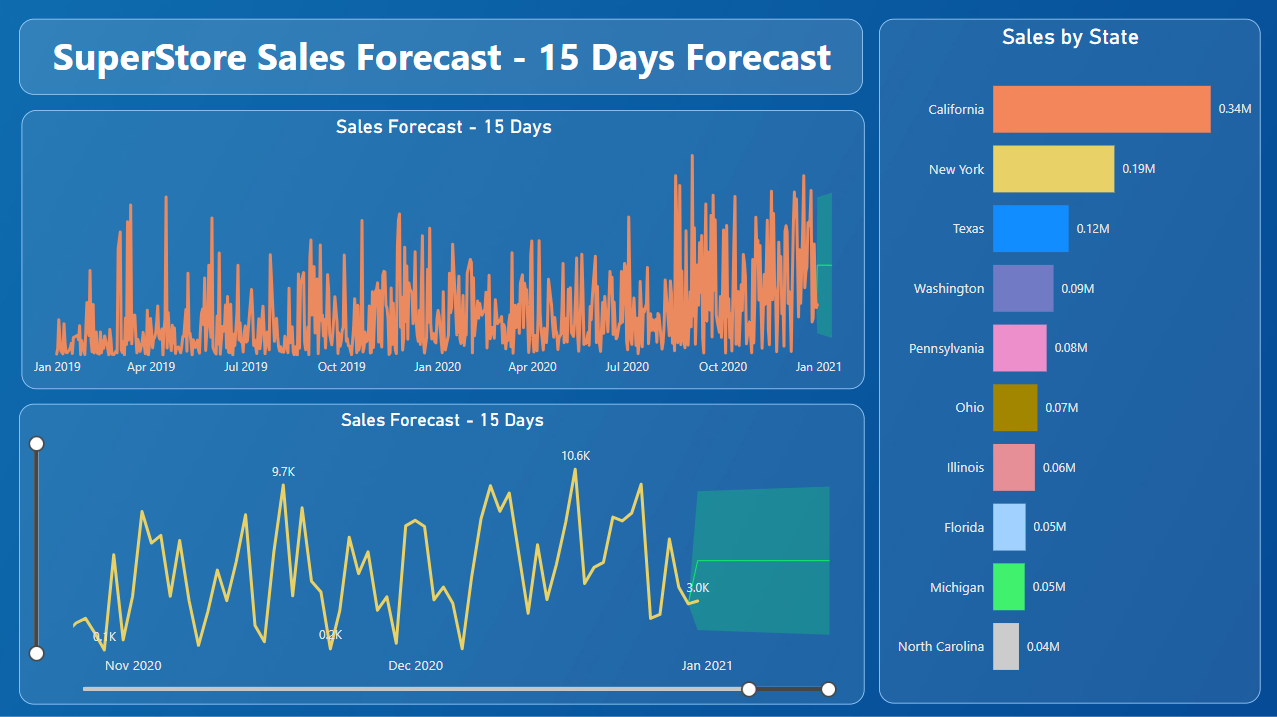

Layout of this report page (visuals, bound fields, positions):
{"tool":"powerbi","page":{"name":"Page 2","canvas":[1280,720],"ordinal":1},"visuals":[{"type":"lineChart","title":"Sales Forecast - 15 Days","fields":{"Y":["Sum(SuperStore_Sales_Dataset.Sales)"],"Category":["SuperStore_Sales_Dataset.Order Date"]},"box":[22.2,109.9,843.2,279],"z":0},{"type":"lineChart","title":"Sales Forecast - 15 Days","fields":{"Y":["Sum(SuperStore_Sales_Dataset.Sales)"],"Category":["SuperStore_Sales_Dataset.Order Date"]},"box":[20.6,403.4,845.3,300.5],"z":1000},{"type":"clusteredBarChart","title":"Sales by State","fields":{"Category":["SuperStore_Sales_Dataset.State"],"Y":["Sum(SuperStore_Sales_Dataset.Sales)"]},"box":[879.6,19.2,381.5,684.7],"z":2000},{"type":"textbox","box":[20.5,19.3,844.2,76],"z":3000}]}

Visuals, with their boxes in screenshot pixels (x1, y1, x2, y2), scaled from the page's 1280x720 canvas onto the 1277x717 screenshot:
"Sales Forecast - 15 Days" lineChart: box=[22, 109, 863, 387]
"Sales Forecast - 15 Days" lineChart: box=[21, 402, 864, 701]
"Sales by State" clusteredBarChart: box=[878, 19, 1258, 701]
textbox: box=[20, 19, 863, 95]
